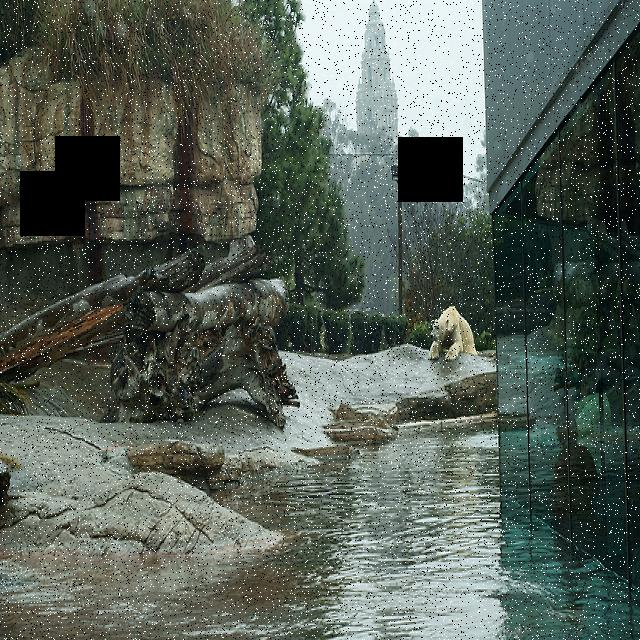Bear: (430, 299, 482, 359)
